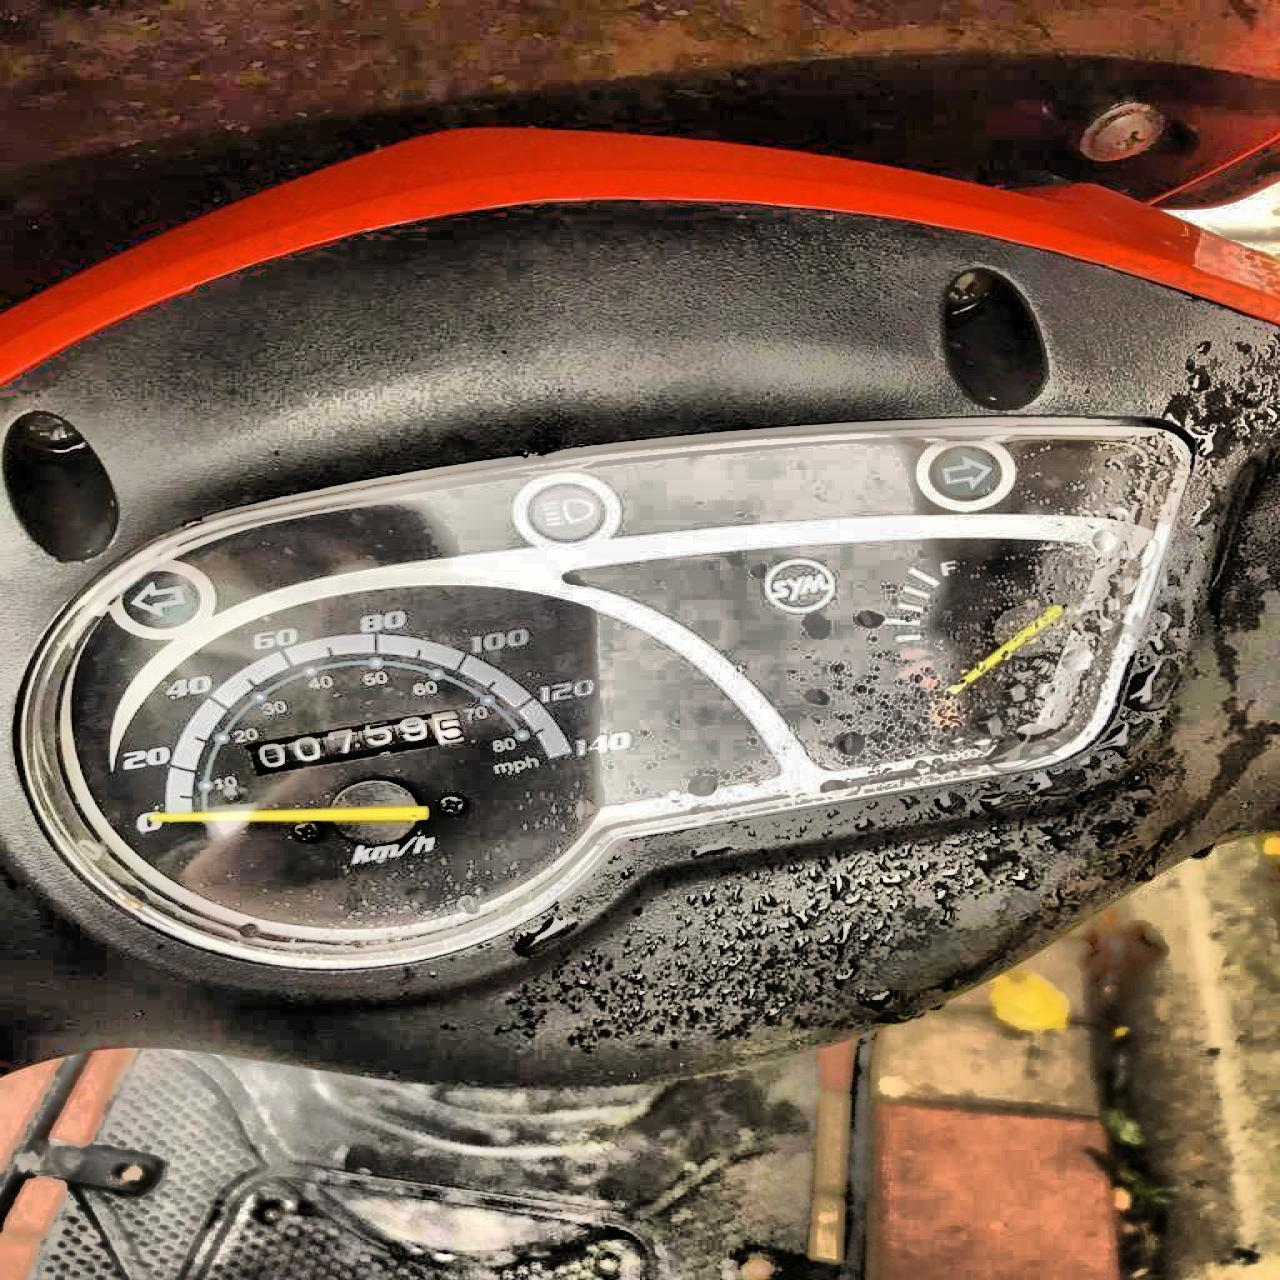0: (292, 734, 321, 763), (256, 742, 287, 767), (244, 726, 259, 740)
5: (435, 715, 462, 745), (362, 720, 393, 745)
7: (327, 727, 355, 754), (463, 707, 471, 717)
9: (396, 715, 428, 741)
odometer: (244, 709, 474, 779)
